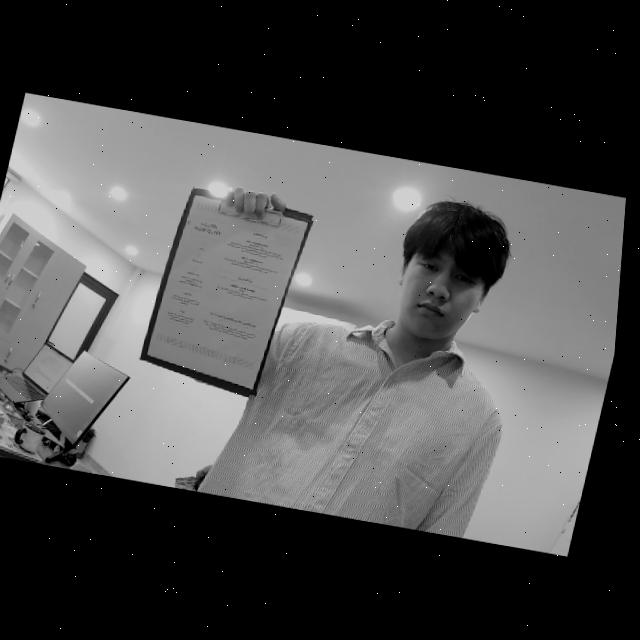document: (147, 195, 308, 389)
face: (388, 197, 508, 351)
